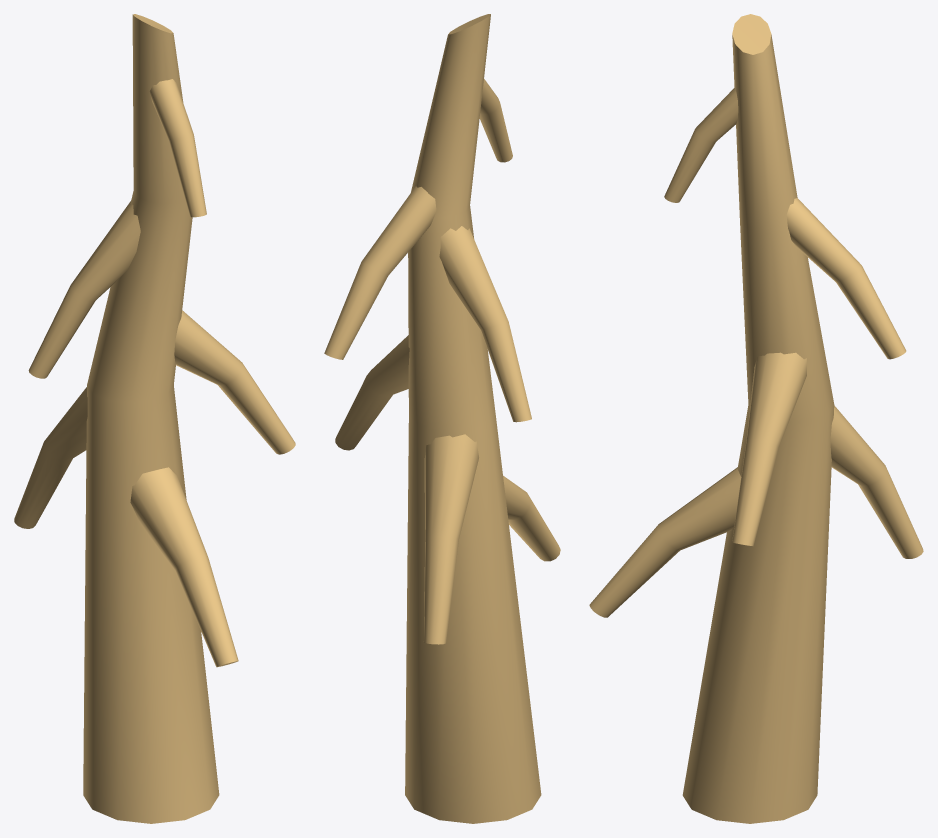
File: DryTree_lvl_4.fbx
3 views of the same model, side by side, from view 1: azimuth 30°, elevation 25°; view 2: azimuth 150°, elevation 25°; view 3: azimuth 270°, elevation 25° (orthographic).
Visible parts, largest first — view 1: tree_4.011; view 2: tree_4.011; view 3: tree_4.011.
Part boxes in pixels (x1,y1,x2,y2): tree_4.011: [14, 14, 295, 823]; tree_4.011: [324, 14, 560, 823]; tree_4.011: [589, 14, 923, 823].
Bounding box in the file's own units: 59.43 × 194 × 75.89.
